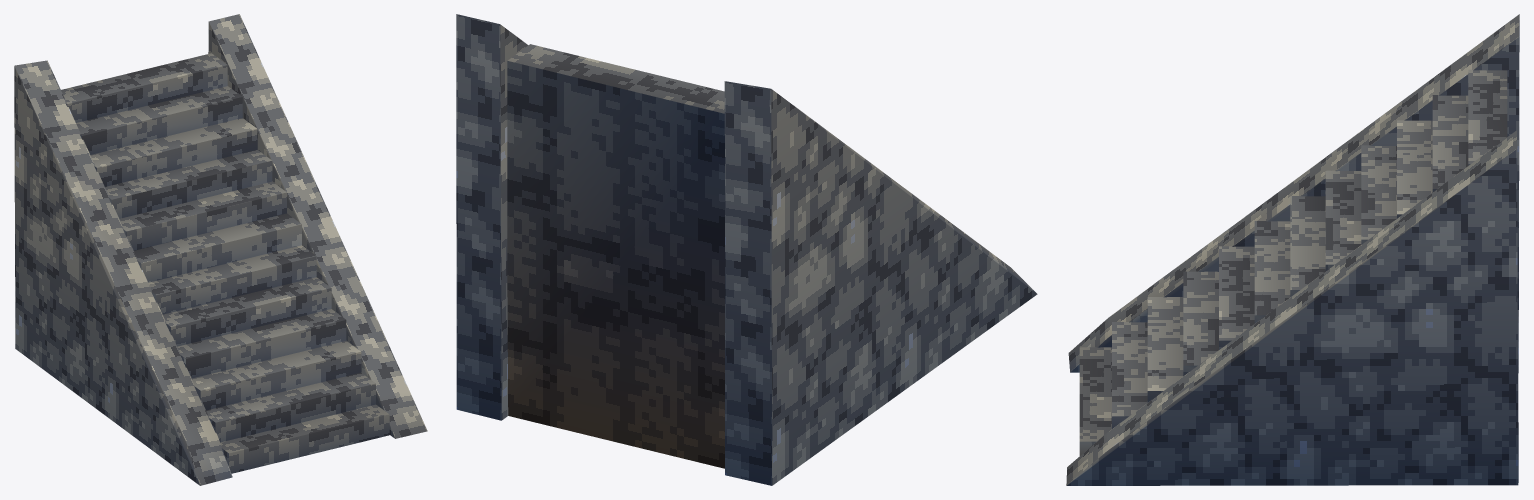
Rendered from vlg.stairs__tall.glb.
The picture shows the model from 3 angles, left to right: view 1: azimuth 30°, elevation 25°; view 2: azimuth 150°, elevation 25°; view 3: azimuth 270°, elevation 25°; orthographic projection. The views are drawn at different scales.
Visible parts, largest first — view 1: kit_stair, kit_sides; view 2: kit_sides, kit_stair; view 3: kit_sides, kit_stair.
Boxes of the visible parts, x1,y1,x2,y2 form: kit_stair: (61,53,389,473); kit_sides: (14,14,427,485); kit_sides: (456,14,1037,485); kit_stair: (507,44,724,468); kit_sides: (1066,14,1519,485); kit_stair: (1079,69,1507,455).
Size of the model in its own units: 2.82 by 3.37 by 4.07.
2 materials, 2 textured.
